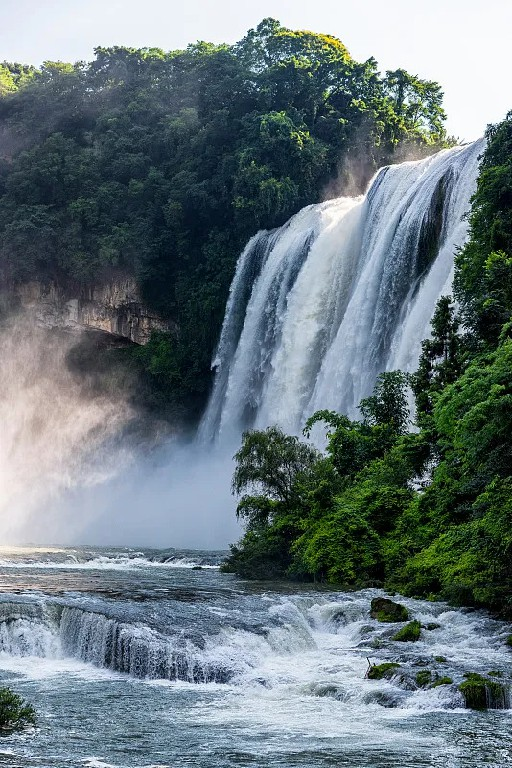Huangguoshu: (187, 141, 479, 451)
